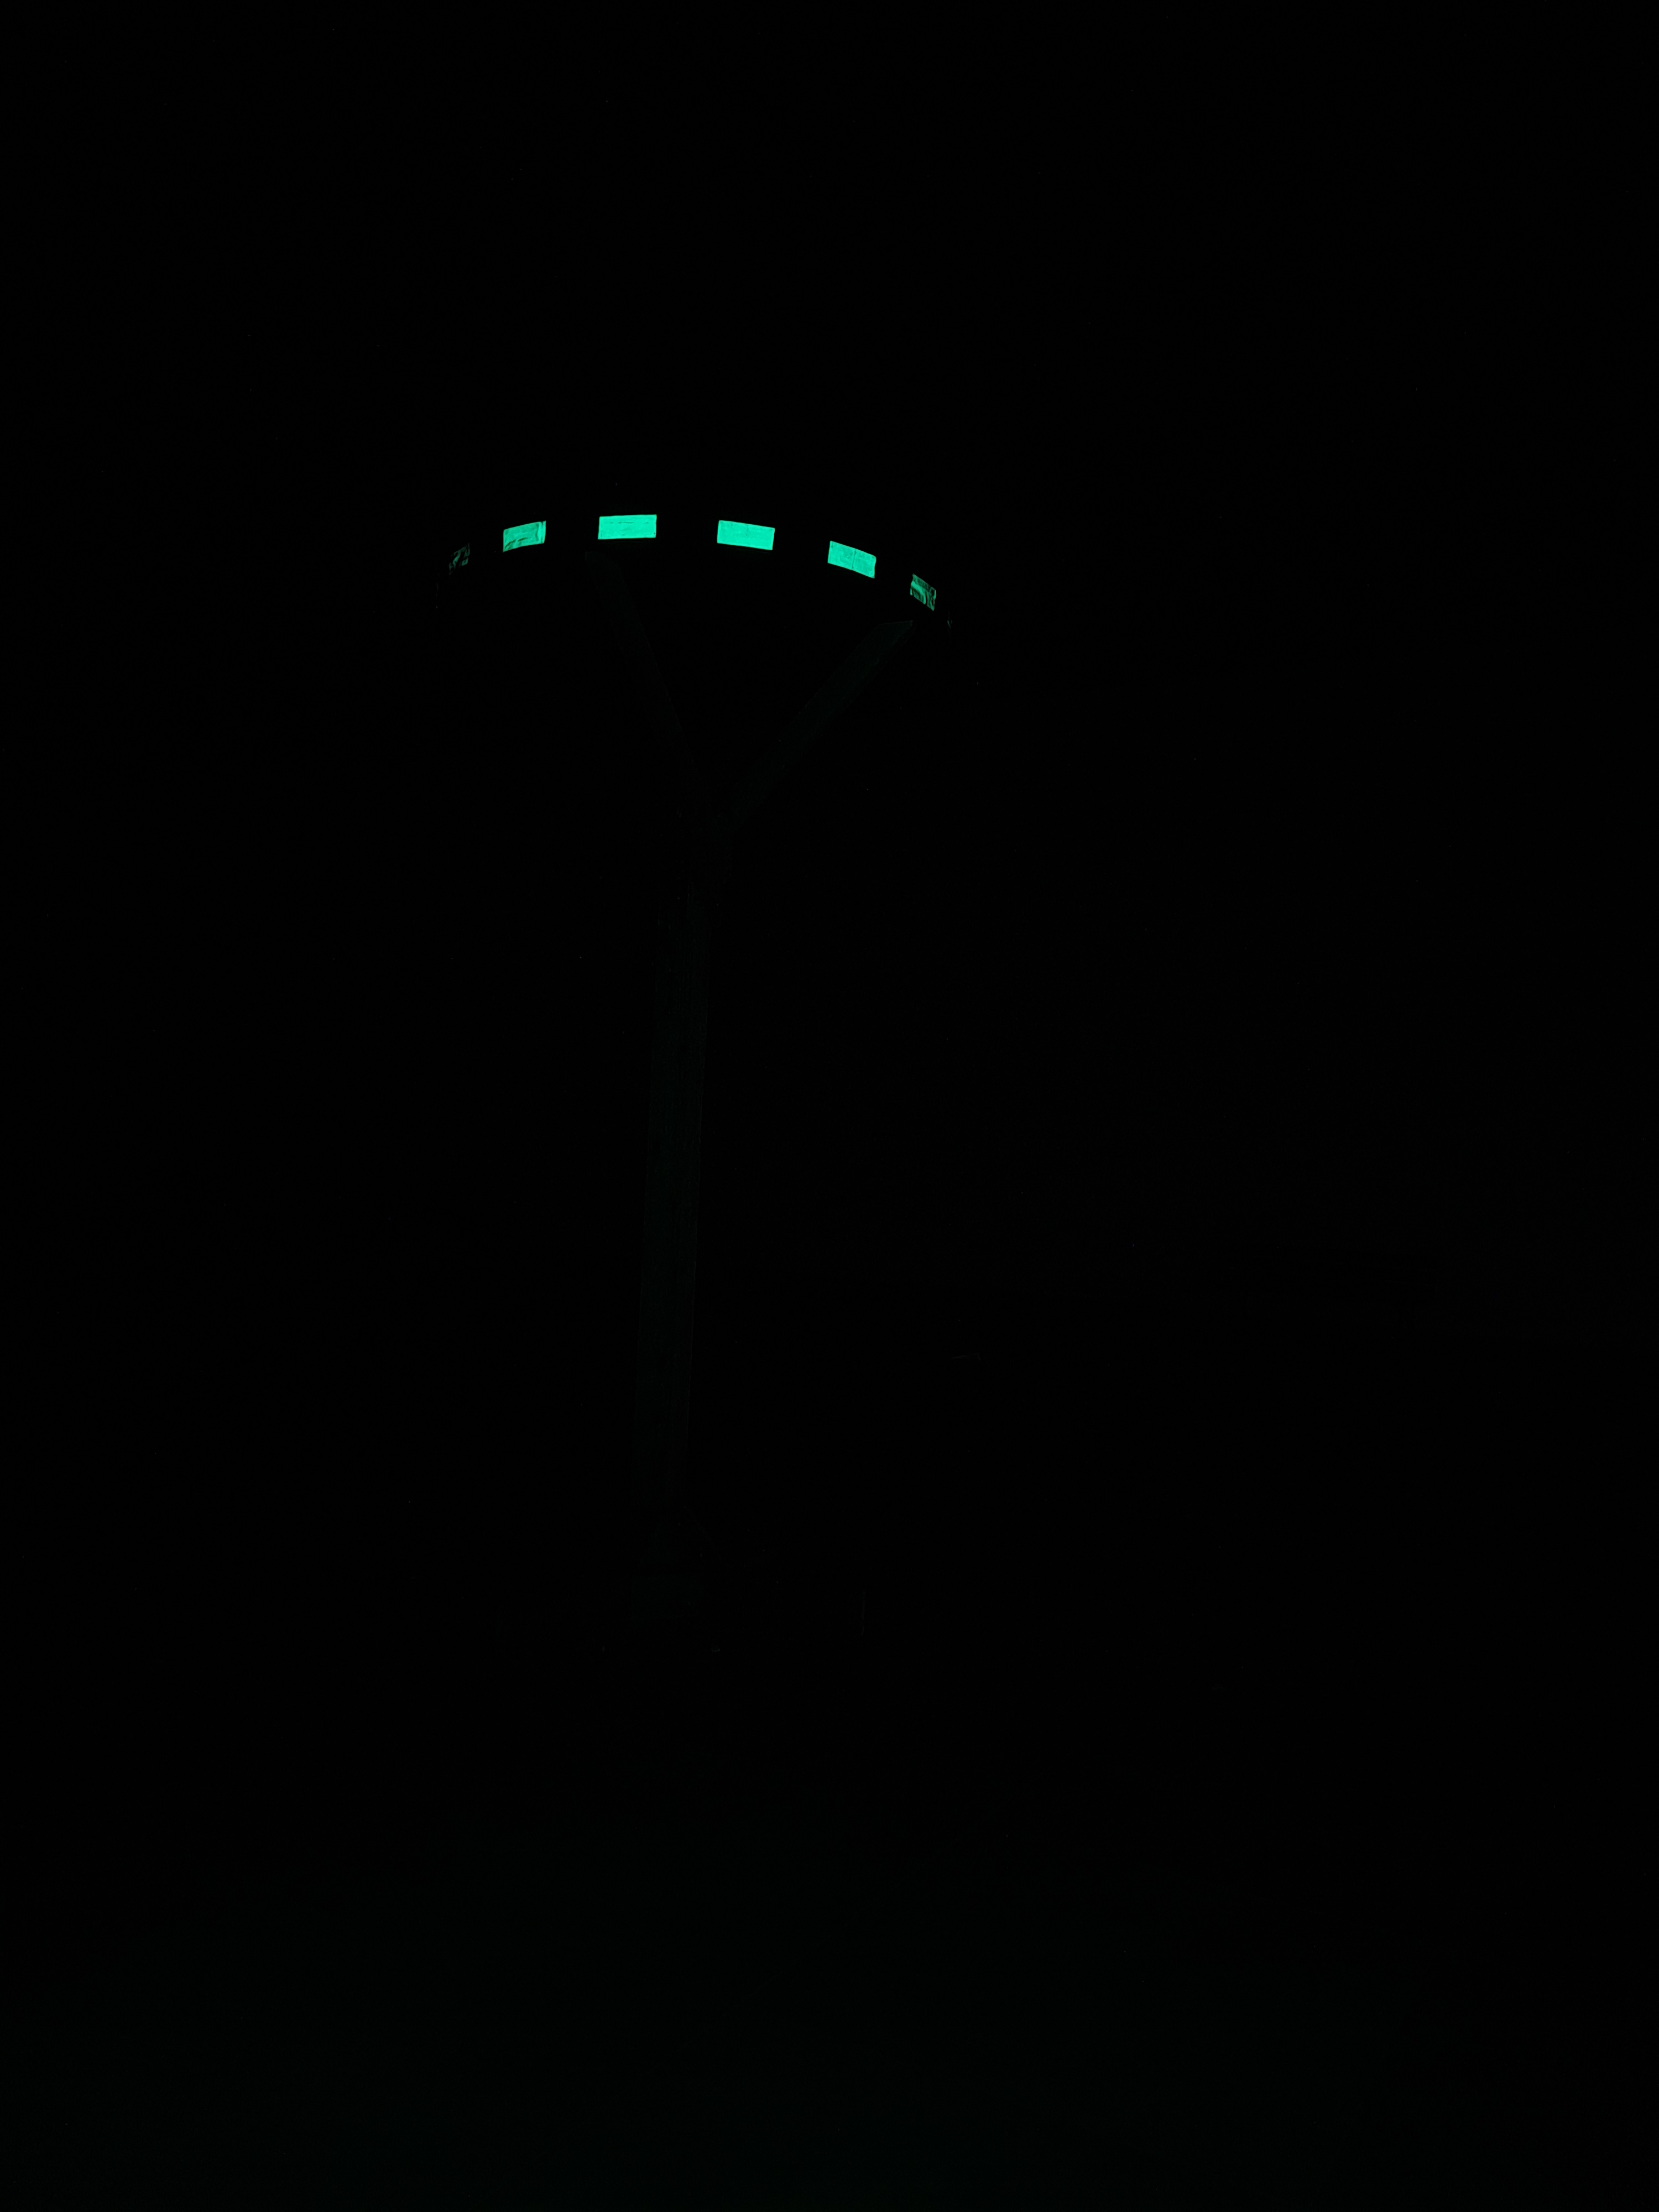hoop: (437, 488, 962, 631)
